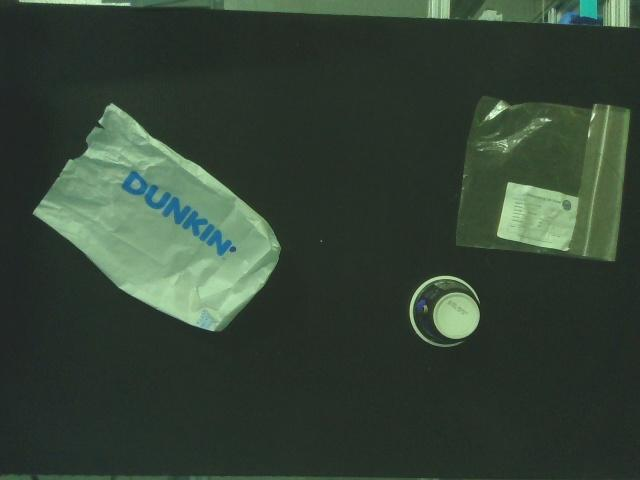paper: (29, 98, 288, 338)
plastic: (450, 92, 638, 265), (404, 270, 487, 354)
